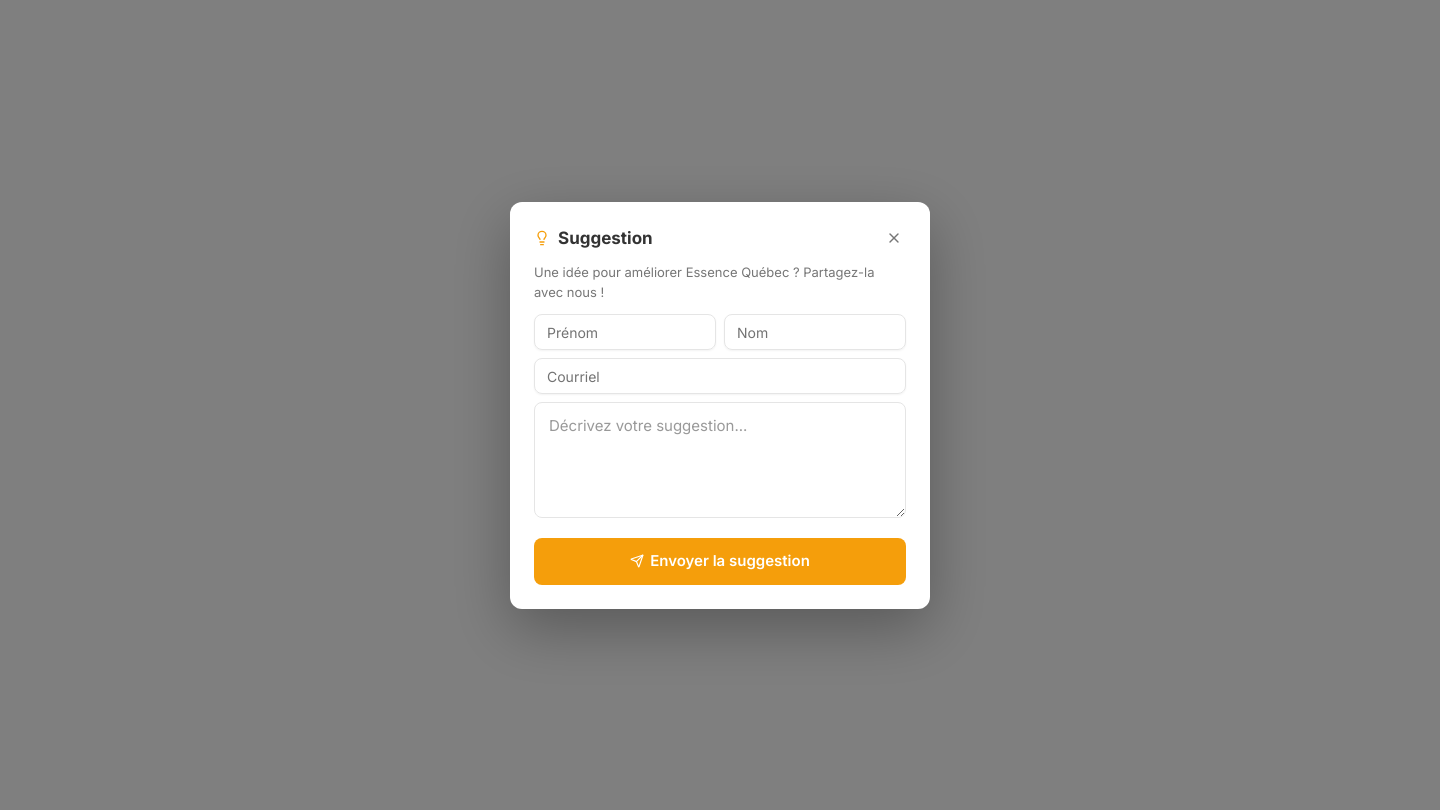
Test: SuggestionModal › affiche l'erreur du serveur quand fetch retourne ok: false
The image size is (1440, 810).
Type "Marie" into the field with placeholder "Prénom" at (625, 332), box [534,314,716,350]
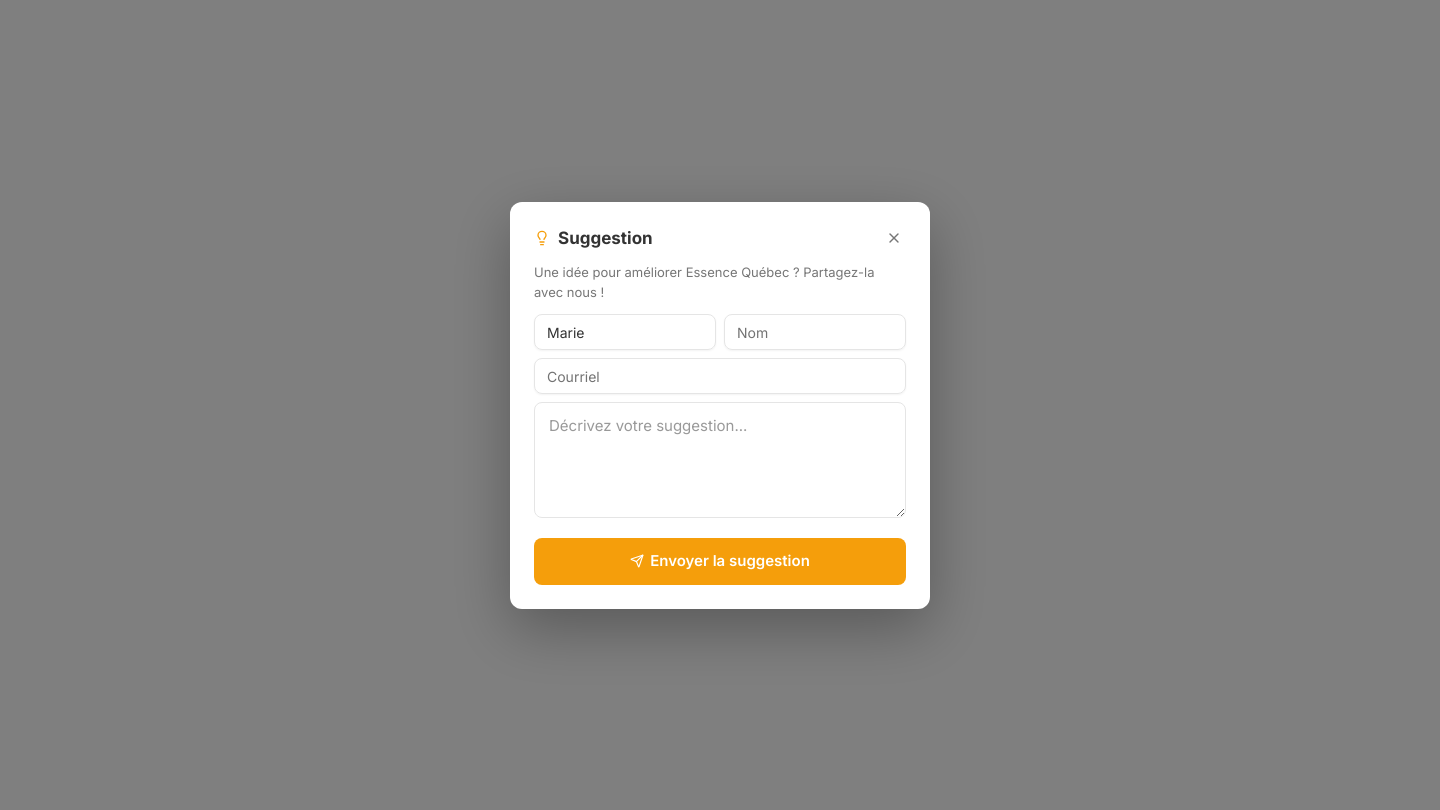
Type "Gagnon" into the field with placeholder "Nom" at (815, 332), box [724,314,906,350]
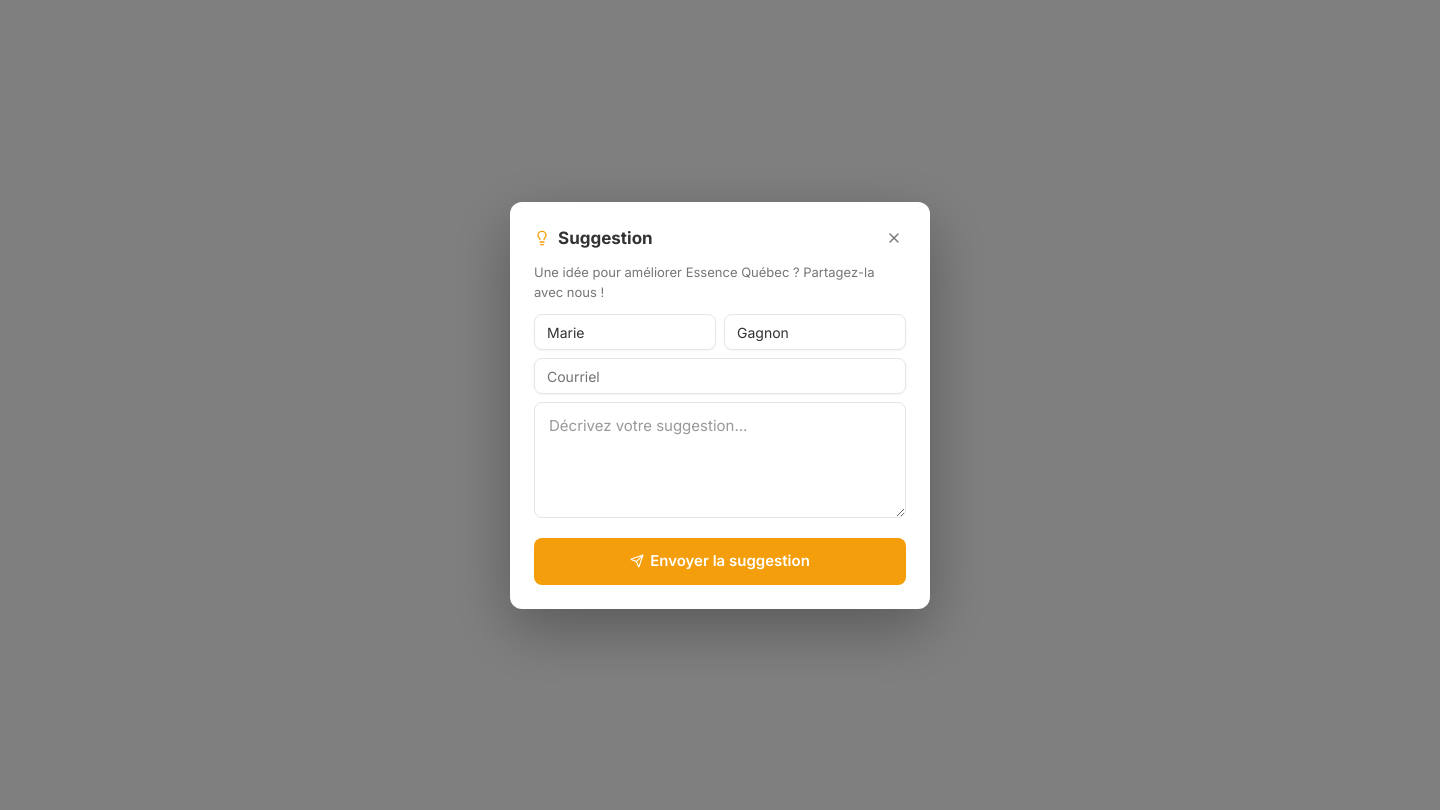
Type "marie@example.com" into the field with placeholder "Courriel" at (720, 376), box [534,358,906,394]
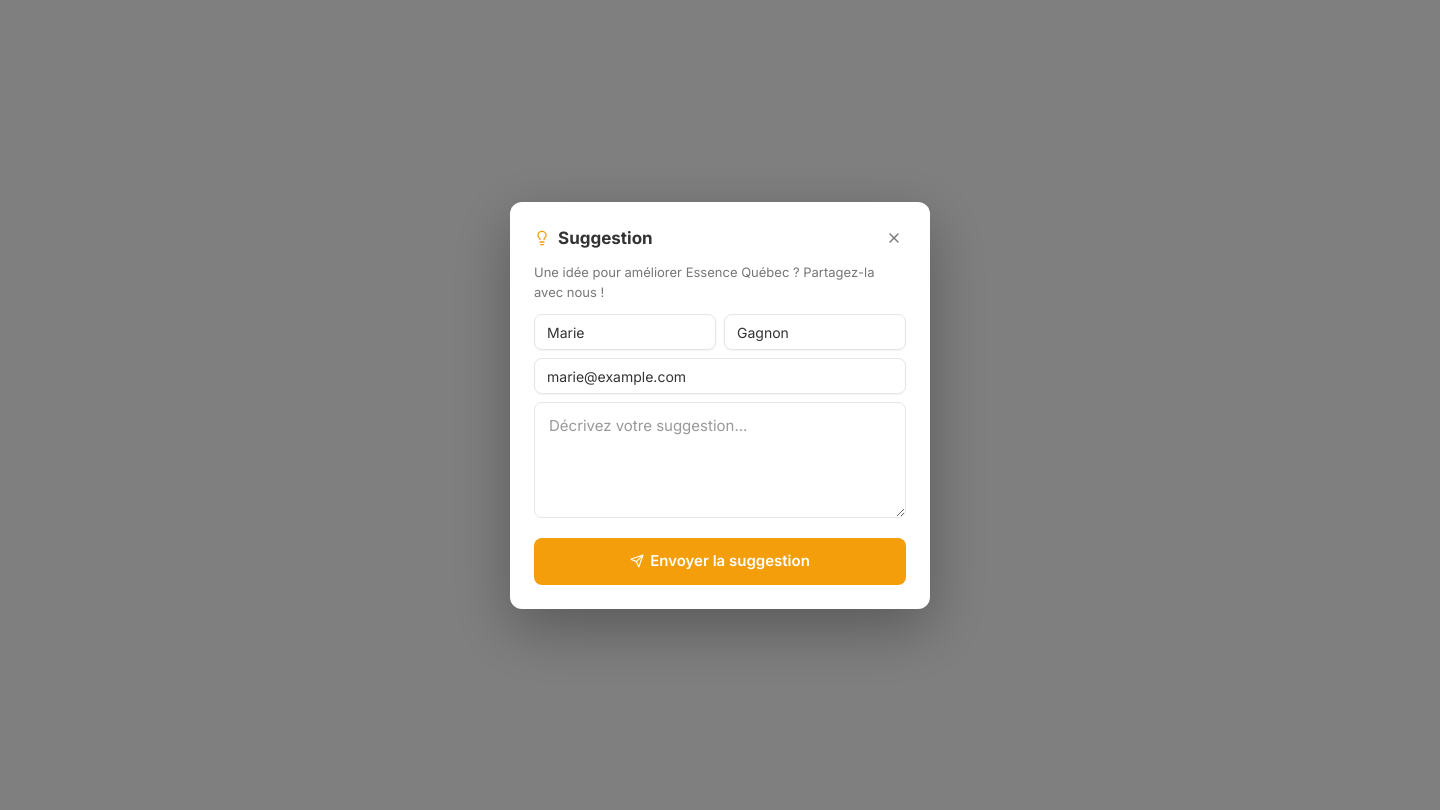
Type "Ajouter un filtre par marque de station" into the text box with placeholder "Décrivez votre suggestion..." at (720, 460), box [534,402,906,518]
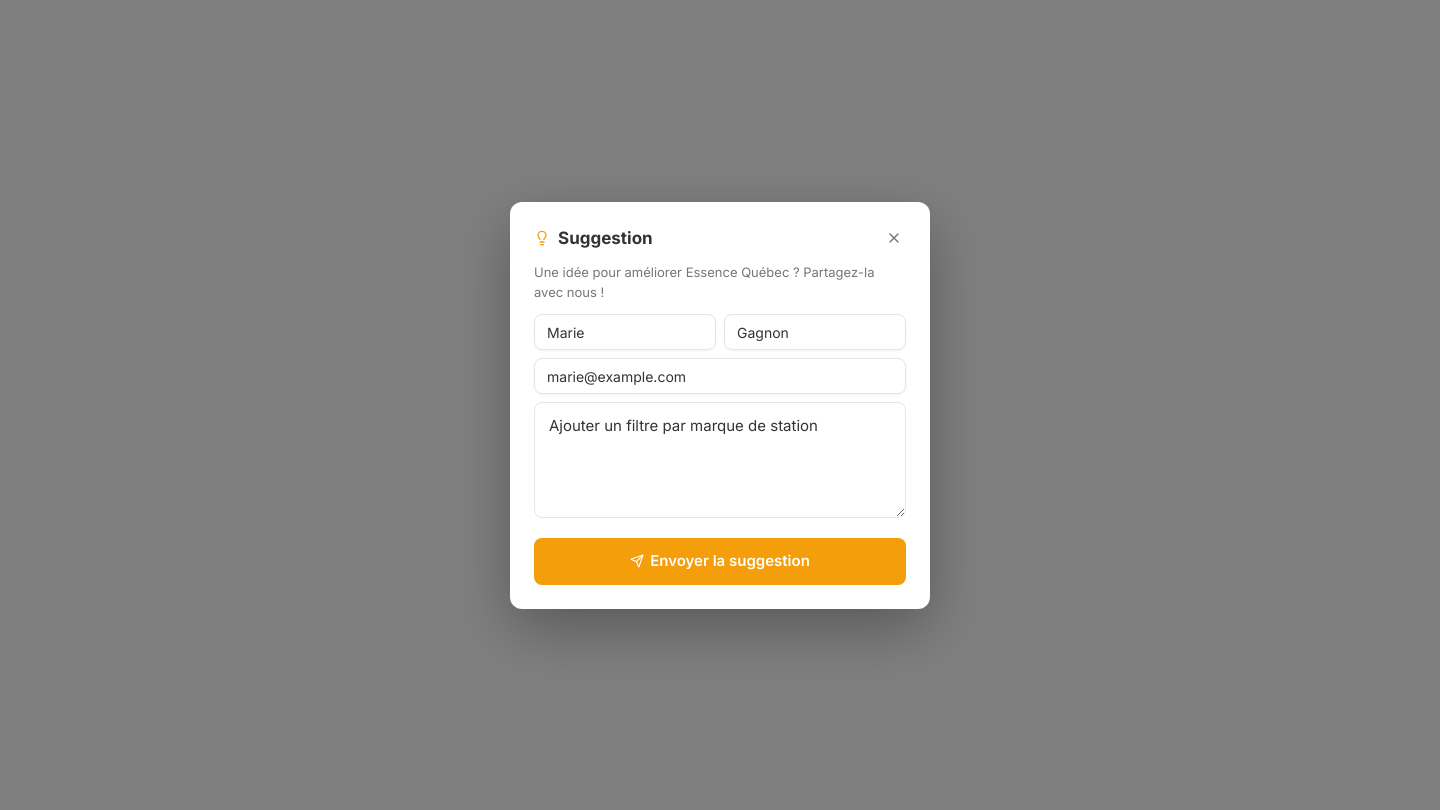
Click the button "Envoyer la suggestion" at (720, 561), box [534,538,906,584]
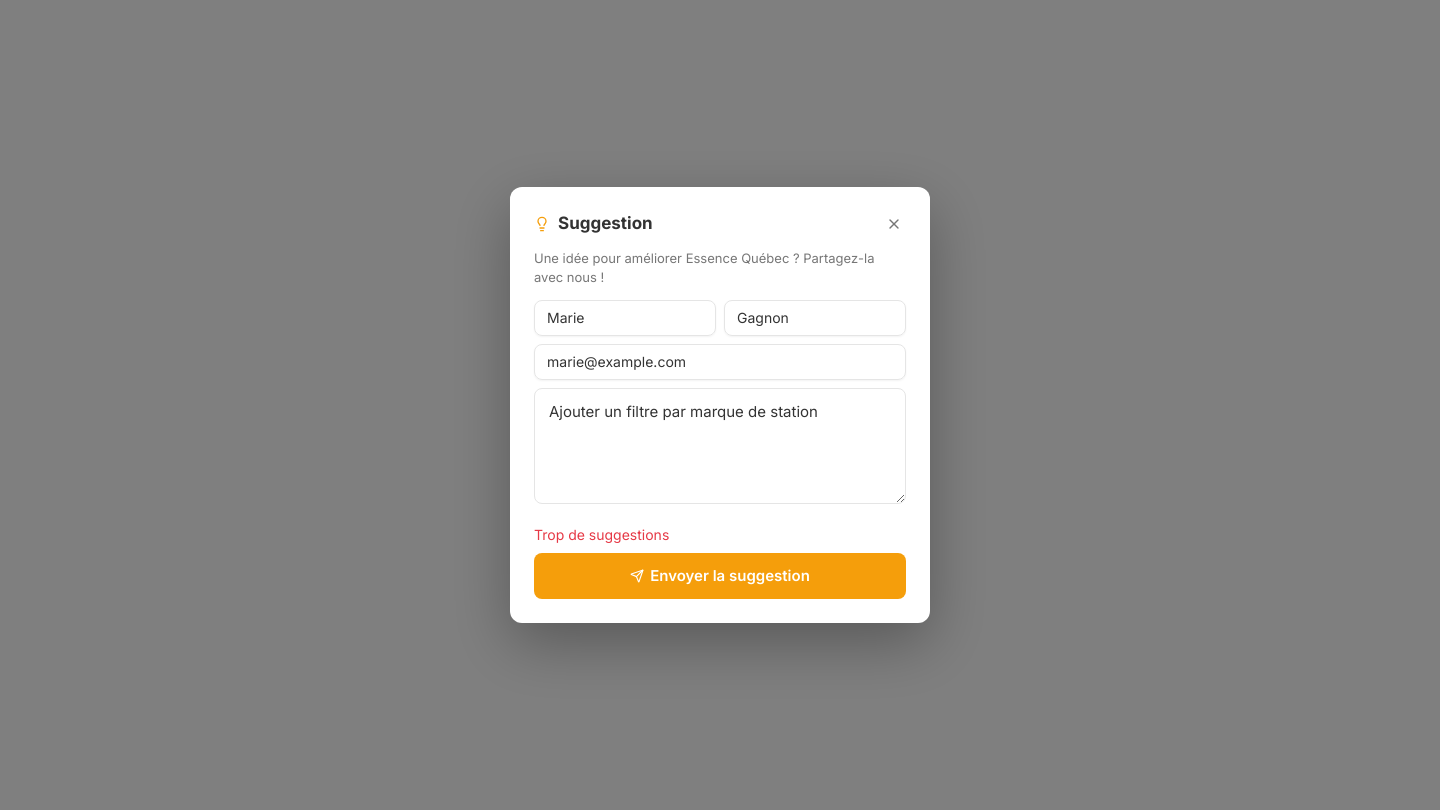
Now the text "Trop de suggestions" is shown, box [534,526,669,542]
